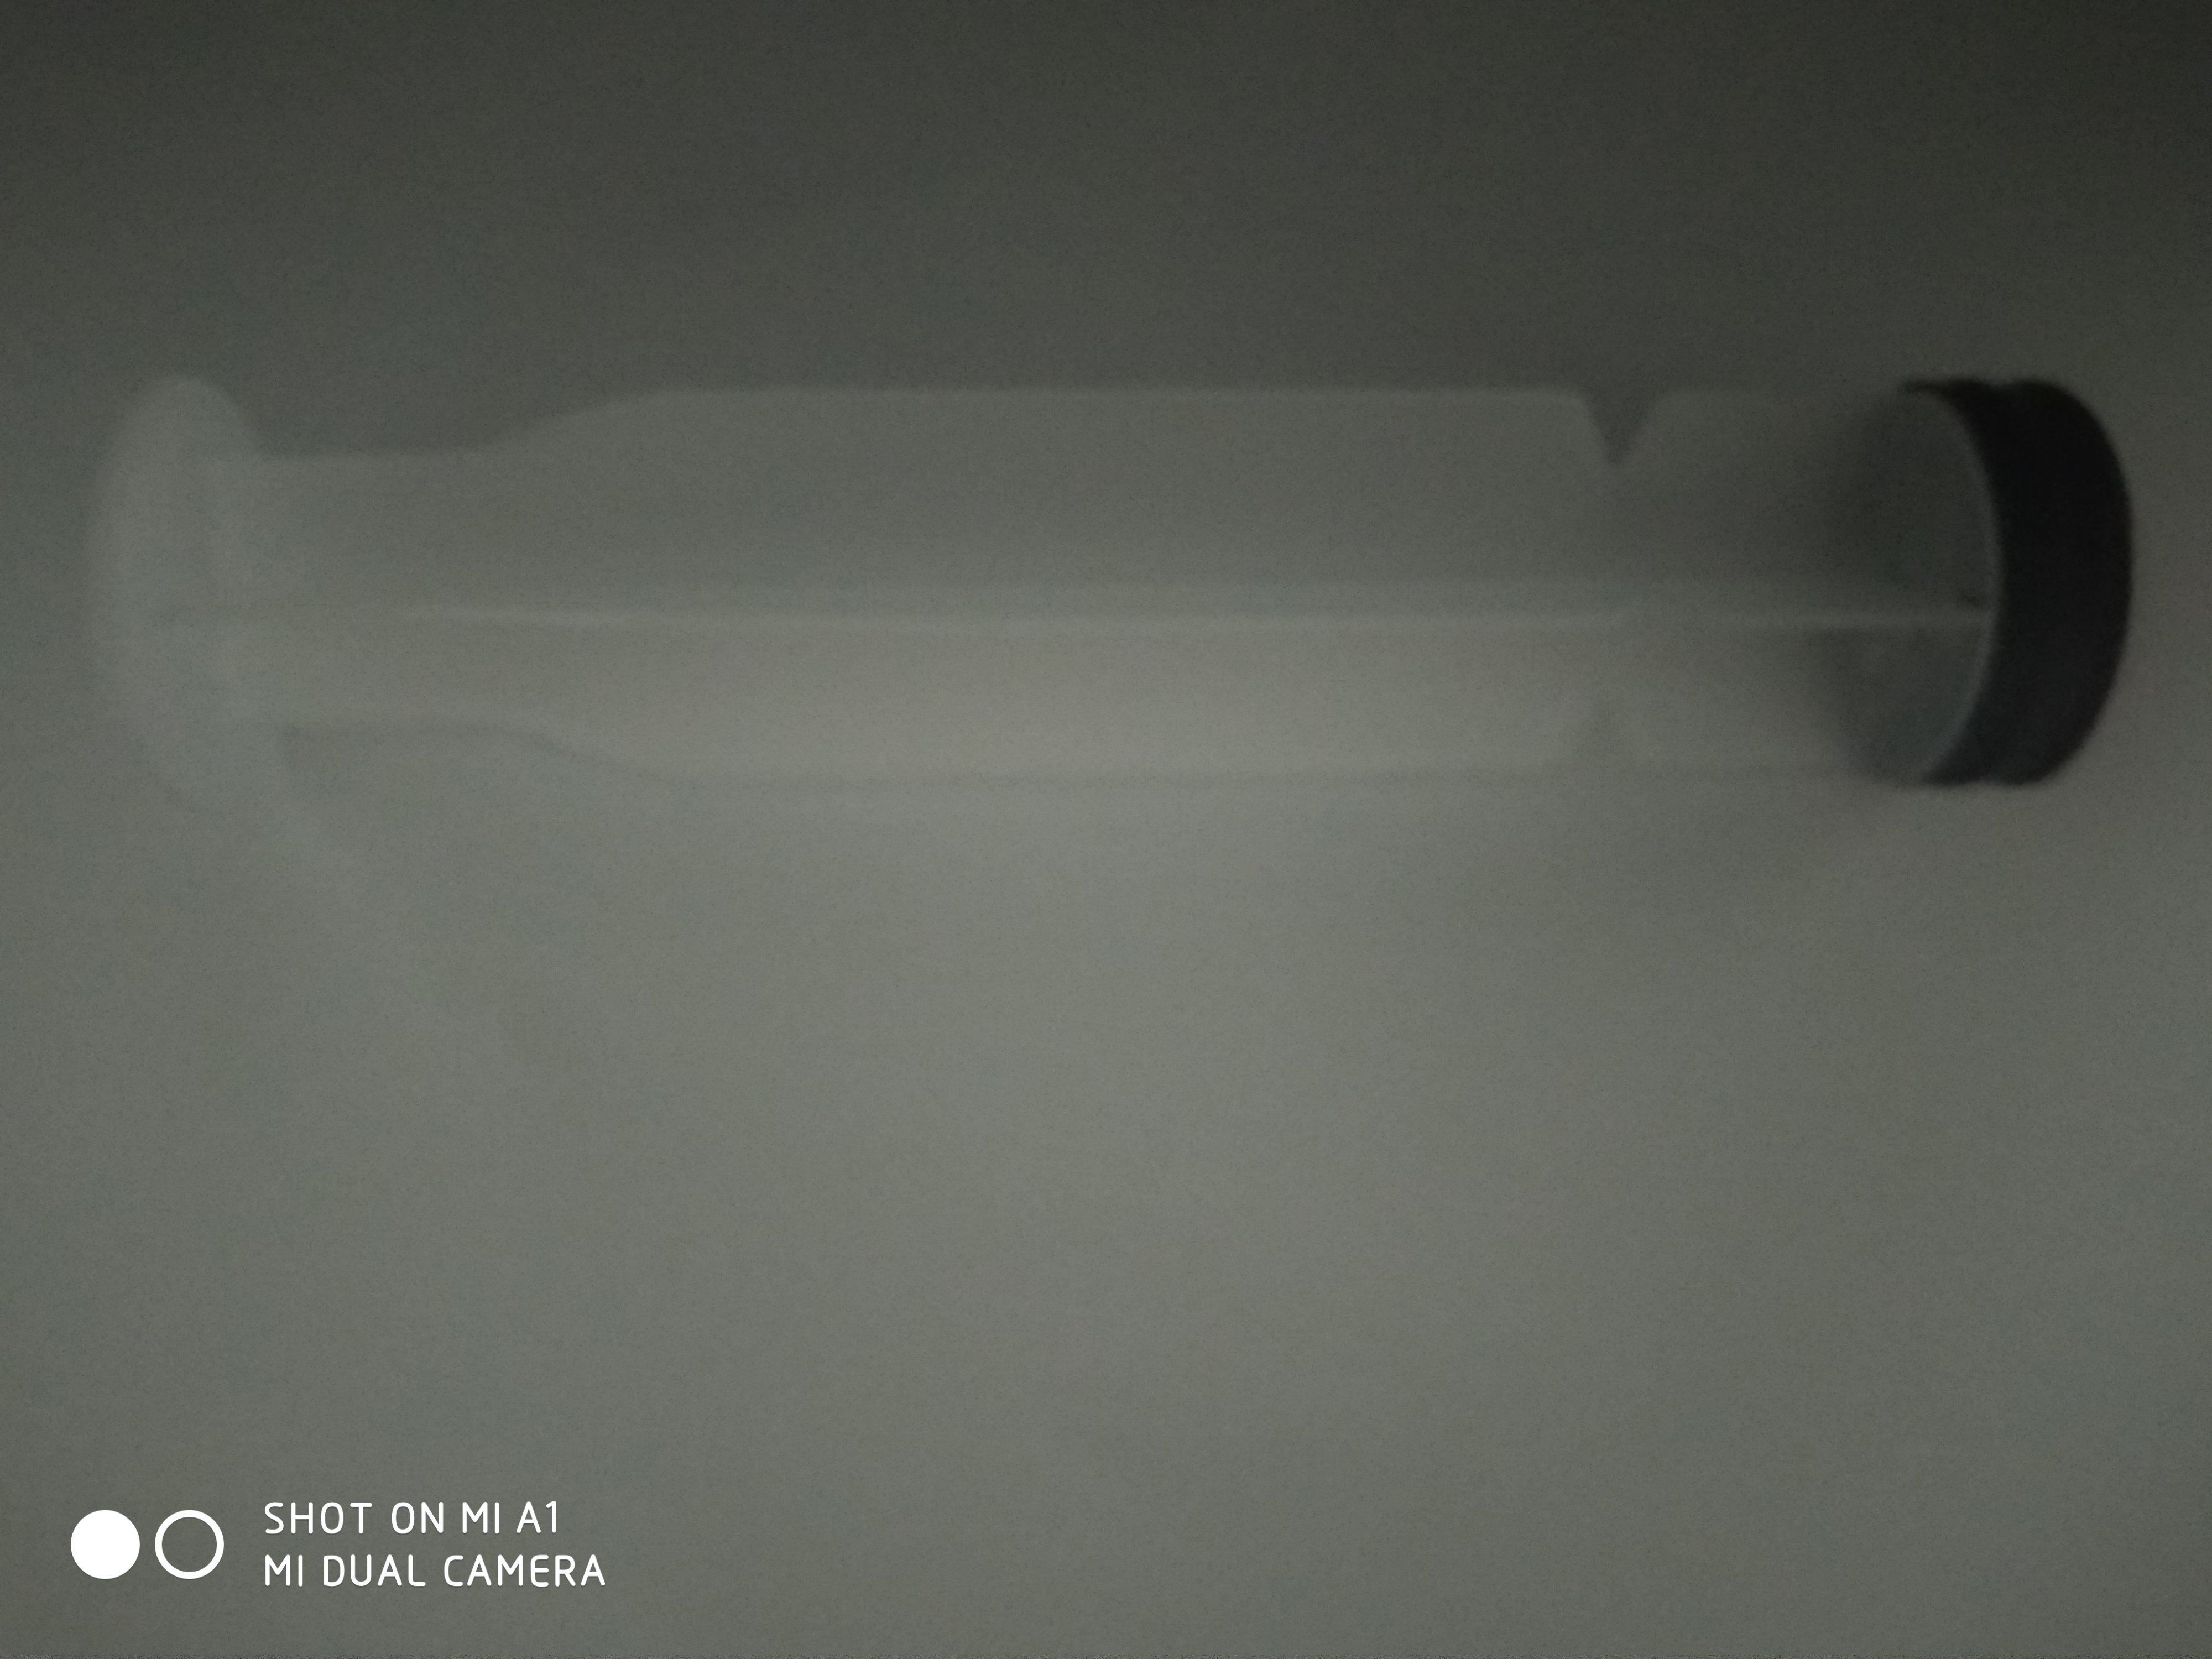plunger: (78, 362, 2149, 824)
